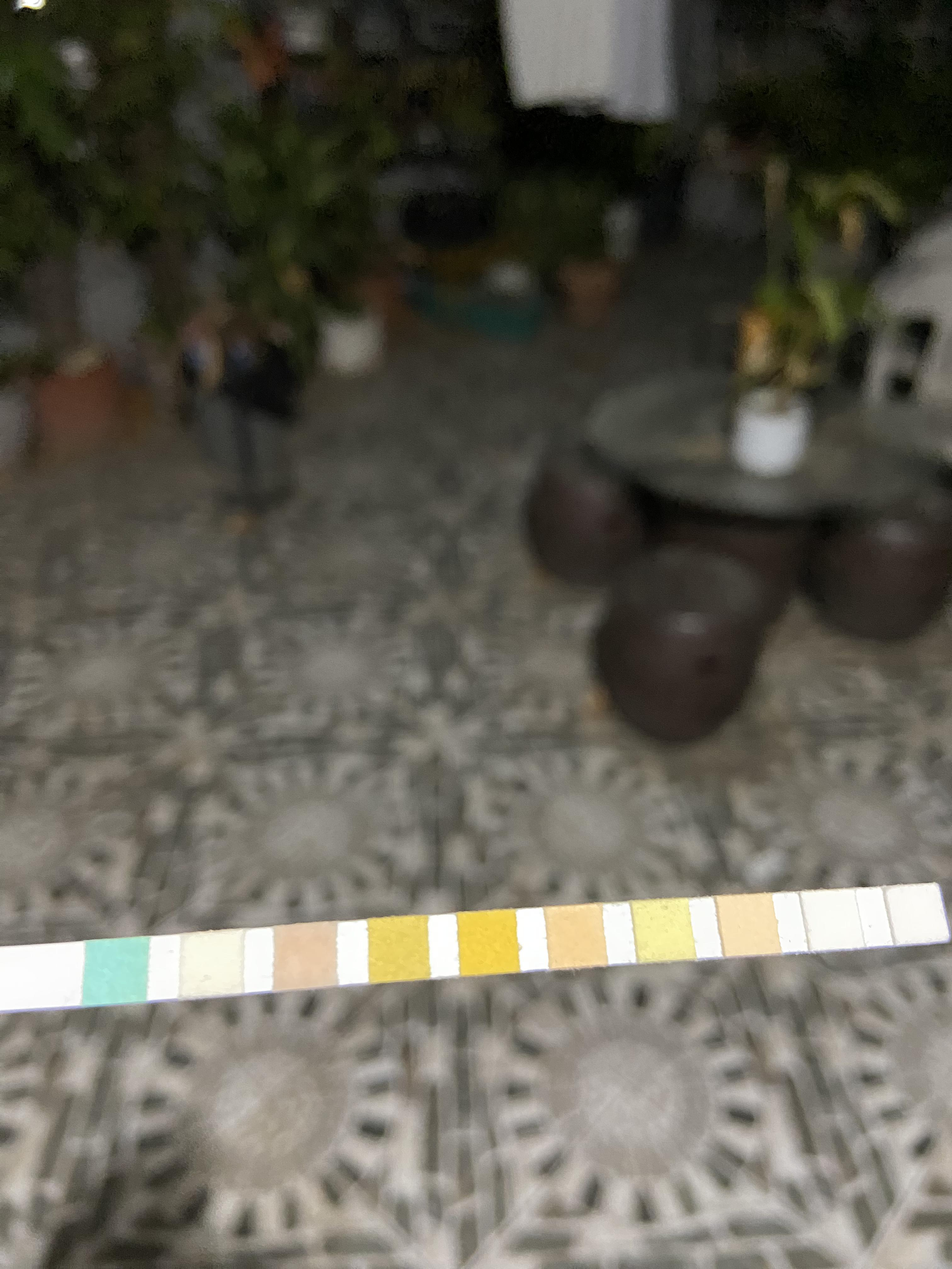Bilirubin: (182, 934, 243, 994)
Blood: (459, 913, 515, 974)
Glucose: (85, 942, 148, 1002)
Ketone: (274, 926, 337, 986)
Leukocytes: (894, 885, 939, 943)
Nitrite: (809, 892, 856, 947)
Protein: (637, 902, 688, 959)
SpGravity: (369, 919, 428, 980)
Urobilinogen: (723, 896, 771, 953)
pH: (549, 908, 602, 966)
strip: (0, 883, 952, 1010)
